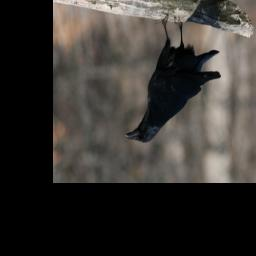Crow: (124, 12, 221, 145)
